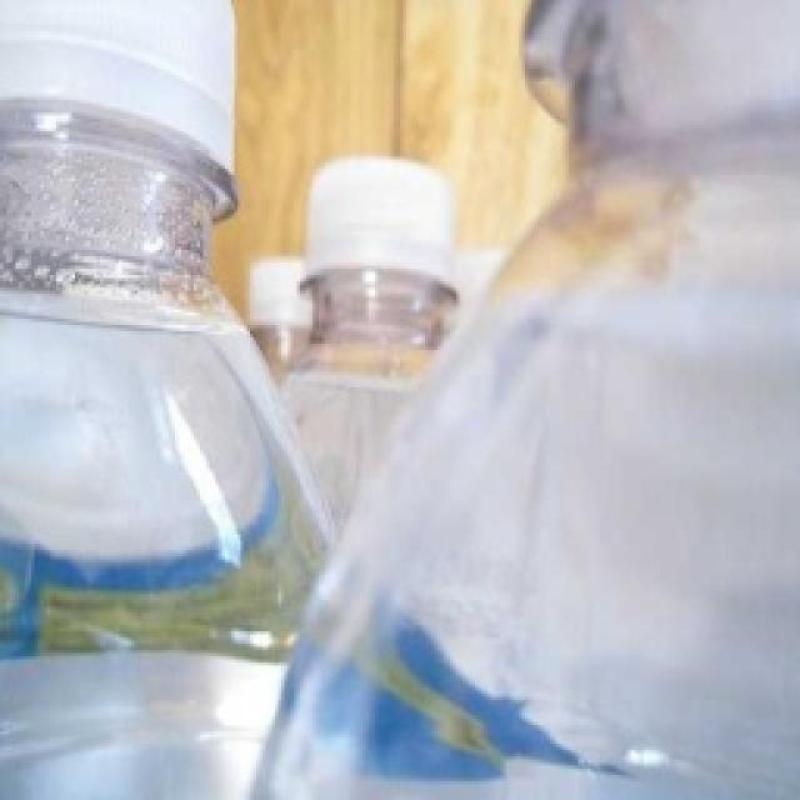botella: (250, 0, 800, 800), (0, 0, 335, 800), (275, 159, 463, 547), (242, 254, 318, 386), (457, 252, 512, 308)
